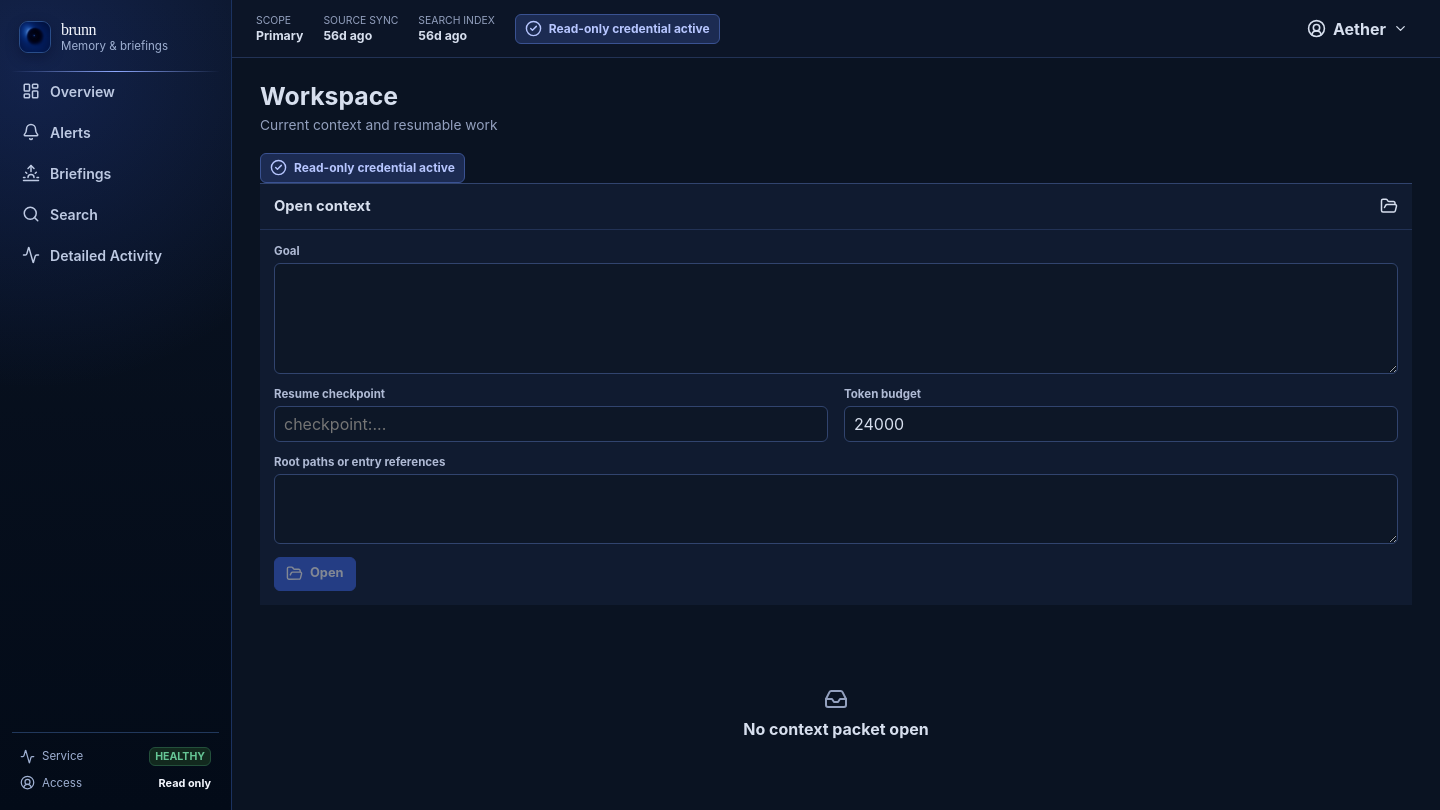
Test: read-only capabilities › allows context open while keeping checkpoint mutation disabled
Expected: the button "Open" is disabled, x1=274 y1=556 x2=356 y2=590
Type "Inspect current plans" into the text box labelled "Goal" at (836, 318), box x1=274 y1=263 x2=1398 y2=374
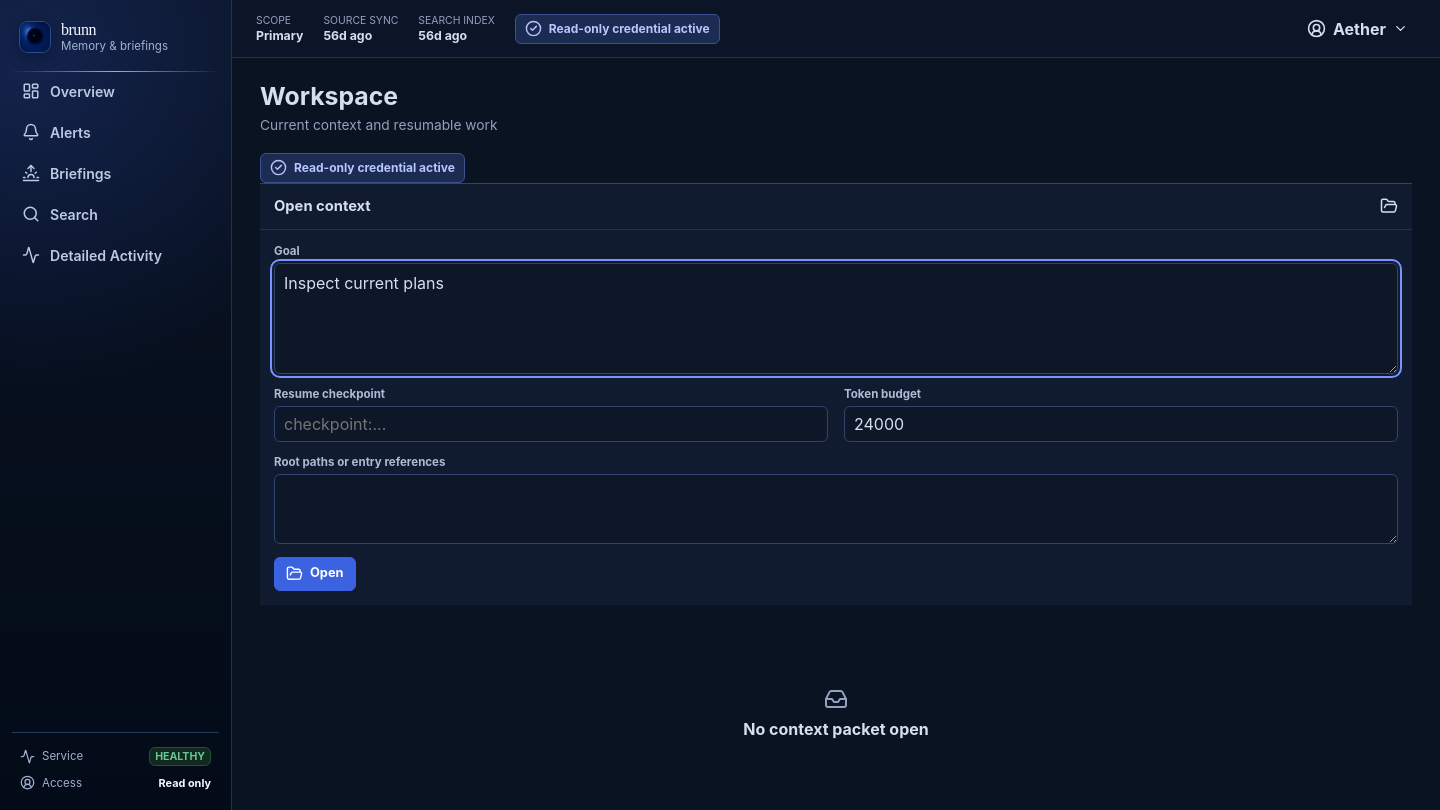
Now the button "Open" is enabled
Click the button "Open" at (315, 574), box x1=274 y1=556 x2=356 y2=590
(page scrolled)
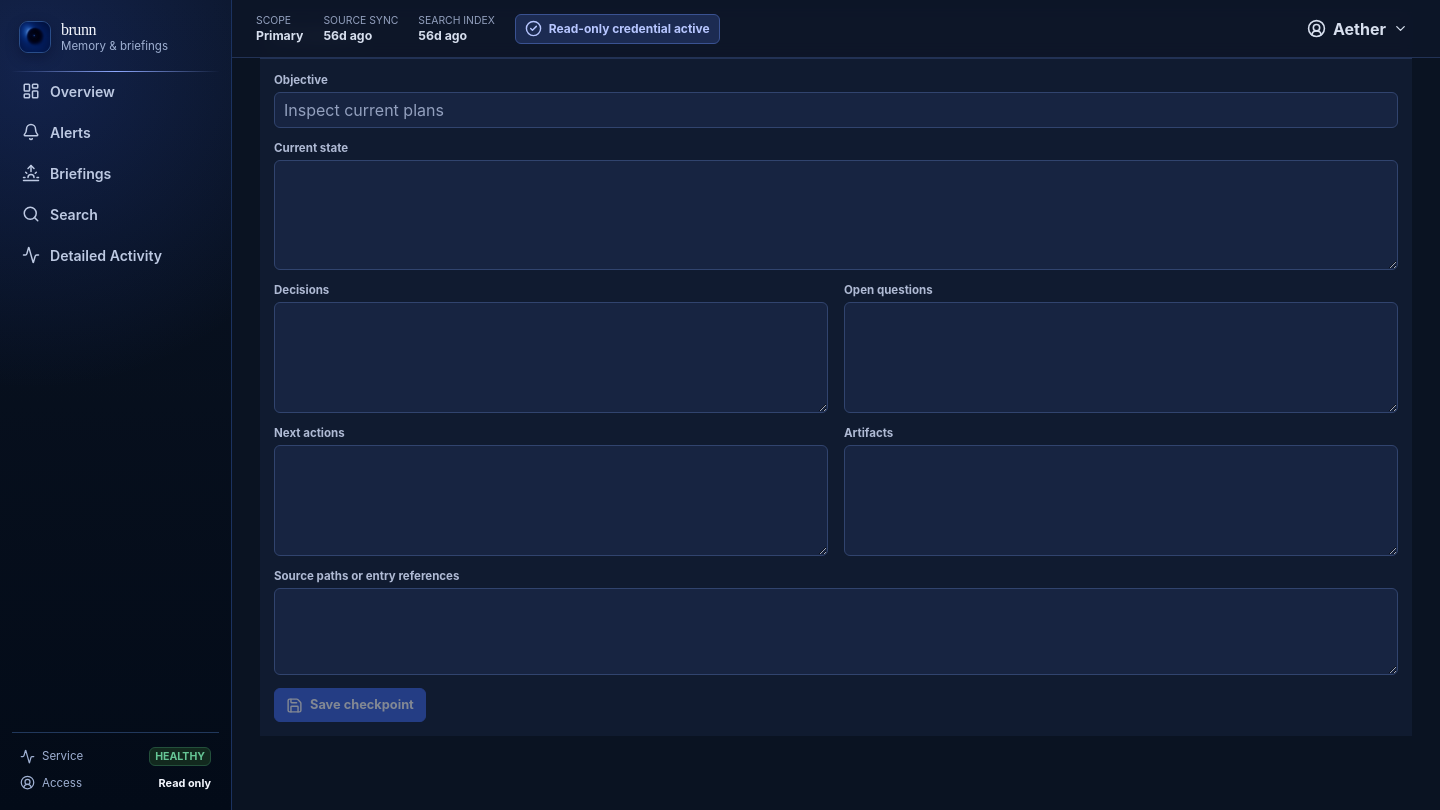
Now the button "Save checkpoint" is disabled, box x1=274 y1=688 x2=426 y2=722
